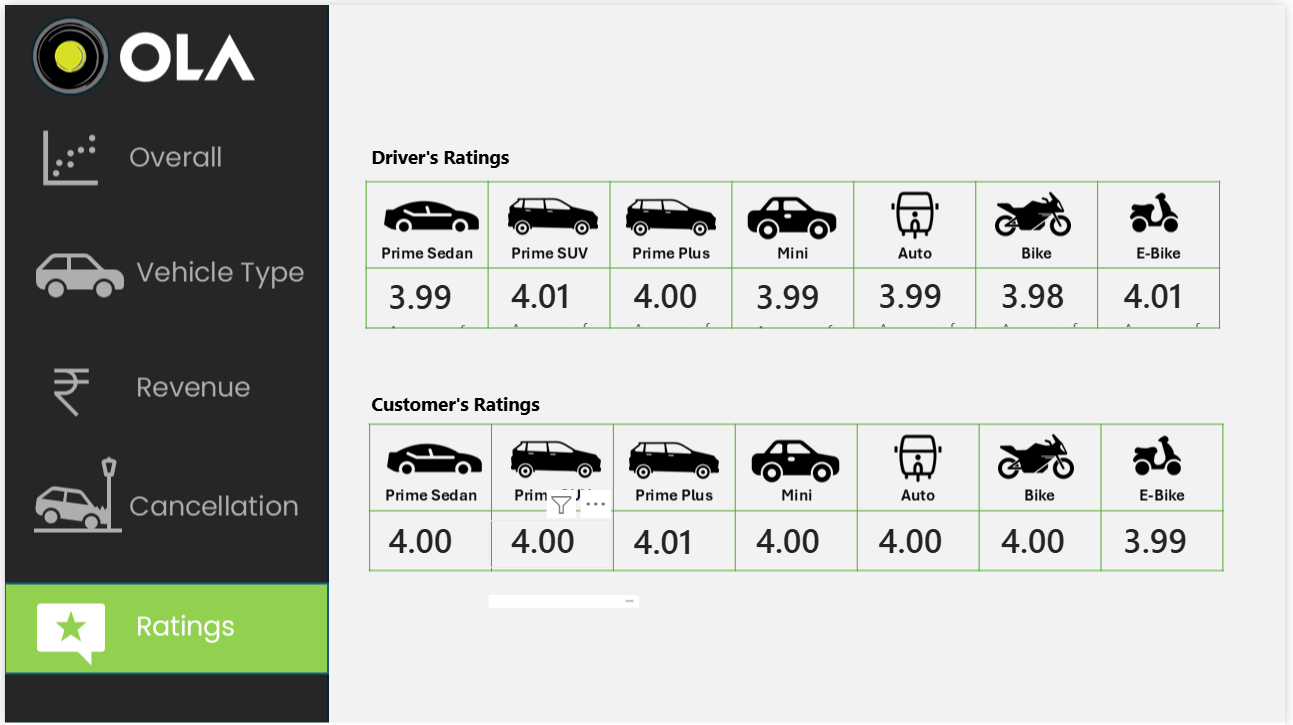

What the dashboard file says about the page in this screenshot:
{"tool":"powerbi","page":{"name":"Ratings","canvas":[1280,720],"ordinal":4},"visuals":[{"type":"actionButton","box":[0,108.6,322.1,91.7],"z":0},{"type":"actionButton","box":[0,222,322.1,91.7],"z":1},{"type":"actionButton","box":[0,335.4,322.1,91.7],"z":2},{"type":"actionButton","box":[0,452.4,322.1,91.7],"z":3},{"type":"cardVisual","fields":{"Data":["Avg(Bookings.Driver_Ratings)"]},"box":[361.2,267.5,122.5,56],"z":4},{"type":"cardVisual","fields":{"Data":["Avg(Bookings.Driver_Ratings)"]},"box":[483.8,266.2,122.5,56.2],"z":5},{"type":"cardVisual","fields":{"Data":["Avg(Bookings.Driver_Ratings)"]},"box":[606.2,266.2,122.5,56.2],"z":6},{"type":"cardVisual","fields":{"Data":["Avg(Bookings.Driver_Ratings)"]},"box":[728.8,267.5,122.5,56.2],"z":7},{"type":"cardVisual","fields":{"Data":["Avg(Bookings.Driver_Ratings)"]},"box":[973.8,266.2,122.5,56.2],"z":8},{"type":"cardVisual","fields":{"Data":["Avg(Bookings.Driver_Ratings)"]},"box":[851.2,266.2,122.5,56.2],"z":9},{"type":"cardVisual","fields":{"Data":["Avg(Bookings.Driver_Ratings)"]},"box":[1096.2,266.2,122.5,56.2],"z":10},{"type":"textbox","box":[483.8,590,150,12.5],"z":11},{"type":"textbox","box":[361.2,133.8,158.8,40],"z":12},{"type":"textbox","box":[361.2,381.2,197.5,36.2],"z":13},{"type":"cardVisual","fields":{"Data":["Avg(Bookings.Customer_Rating)"]},"box":[361.2,515,122.5,48.8],"z":14},{"type":"cardVisual","fields":{"Data":["Avg(Bookings.Customer_Rating)"]},"box":[1096.2,515,122.5,48.8],"z":16},{"type":"cardVisual","fields":{"Data":["Avg(Bookings.Customer_Rating)"]},"box":[973.8,515,122.5,48.8],"z":17},{"type":"cardVisual","fields":{"Data":["Avg(Bookings.Customer_Rating)"]},"box":[851.2,515,122.5,48.8],"z":18},{"type":"cardVisual","fields":{"Data":["Avg(Bookings.Customer_Rating)"]},"box":[728.8,515,122.5,48.8],"z":19},{"type":"cardVisual","fields":{"Data":["Avg(Bookings.Customer_Rating)"]},"box":[606.2,516.2,122.5,48.8],"z":20},{"type":"cardVisual","fields":{"Data":["Avg(Bookings.Customer_Rating)"]},"box":[483.8,515,122.5,48.8],"z":21}]}

Visuals, with their boxes on the page's 1280x720 design canvas (x1, y1, x2, y2). These are canvas units, not pixel positions in the 1293x725 screenshot, which may show the page scaled, cropped or inside an application window:
actionButton: [0, 109, 322, 200]
actionButton: [0, 222, 322, 314]
actionButton: [0, 335, 322, 427]
actionButton: [0, 452, 322, 544]
cardVisual - Avg(Bookings.Driver_Ratings): [361, 268, 484, 324]
cardVisual - Avg(Bookings.Driver_Ratings): [484, 266, 606, 322]
cardVisual - Avg(Bookings.Driver_Ratings): [606, 266, 729, 322]
cardVisual - Avg(Bookings.Driver_Ratings): [729, 268, 851, 324]
cardVisual - Avg(Bookings.Driver_Ratings): [974, 266, 1096, 322]
cardVisual - Avg(Bookings.Driver_Ratings): [851, 266, 974, 322]
cardVisual - Avg(Bookings.Driver_Ratings): [1096, 266, 1219, 322]
textbox: [484, 590, 634, 602]
textbox: [361, 134, 520, 174]
textbox: [361, 381, 559, 417]
cardVisual - Avg(Bookings.Customer_Rating): [361, 515, 484, 564]
cardVisual - Avg(Bookings.Customer_Rating): [1096, 515, 1219, 564]
cardVisual - Avg(Bookings.Customer_Rating): [974, 515, 1096, 564]
cardVisual - Avg(Bookings.Customer_Rating): [851, 515, 974, 564]
cardVisual - Avg(Bookings.Customer_Rating): [729, 515, 851, 564]
cardVisual - Avg(Bookings.Customer_Rating): [606, 516, 729, 565]
cardVisual - Avg(Bookings.Customer_Rating): [484, 515, 606, 564]
